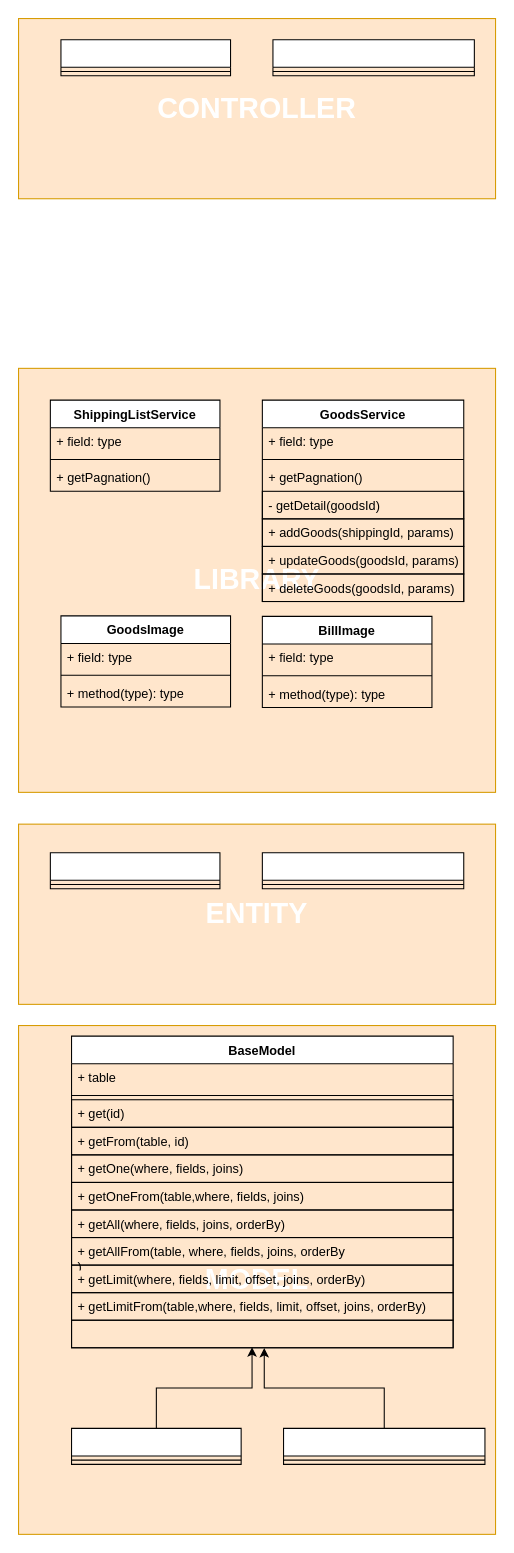
Image size: 514x1553. Some labels were removed from this diagram. Here are the shapes that lost their labels. From the top down, the centre of each, then its label:
the point at 145,57: ShippingList
the point at 373,57: Goods
the point at 134,870: ShippingListEntity
the point at 362,870: GoodsEntity
the point at 155,1445: ShippingListModel
the point at 383,1445: GoodsModel
